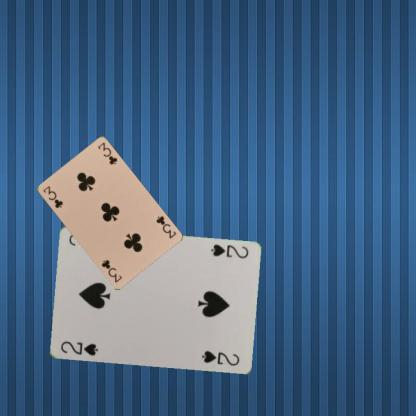2s: (208, 242, 250, 260), (58, 339, 99, 357)
3c: (153, 213, 177, 240), (41, 183, 64, 209)
